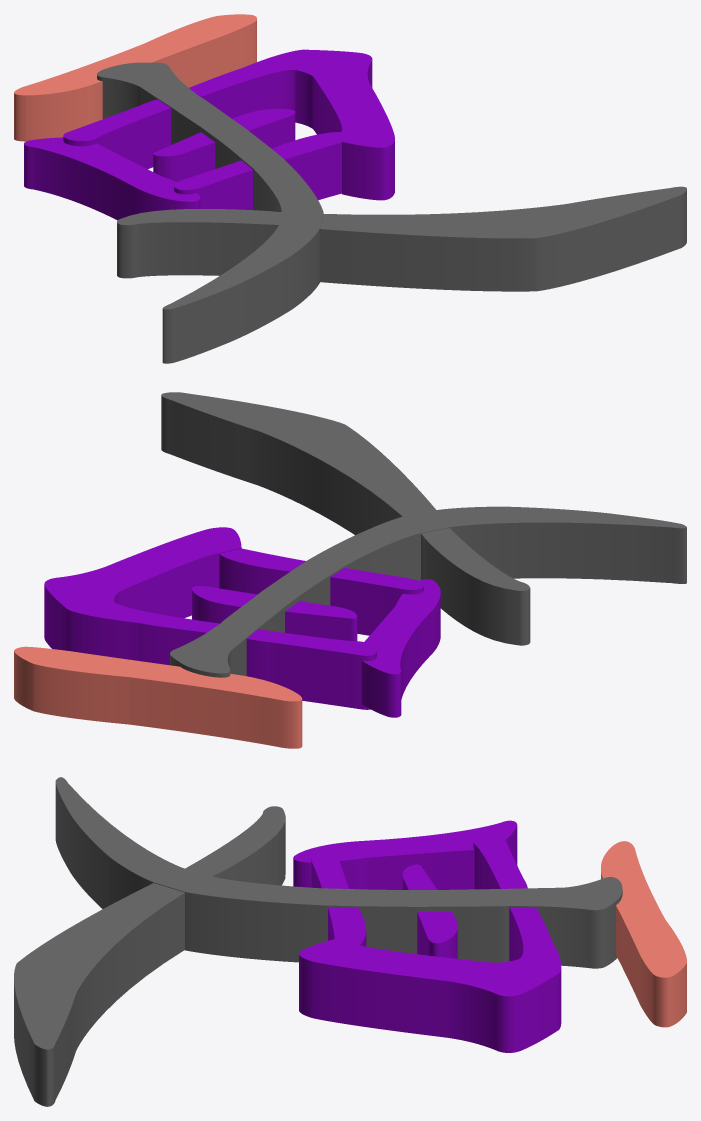
The model's file is hanzi164.fbx.
The picture shows the model from 3 angles, top to bottom: view 1: azimuth 30°, elevation 25°; view 2: azimuth 150°, elevation 25°; view 3: azimuth 270°, elevation 25°; orthographic projection. The views are drawn at different scales.
Visible parts, largest first — view 1: Curve.006, Curve.005, Curve.002, Curve, Curve.001, Curve.004, Curve.003; view 2: Curve.006, Curve.005, Curve.002, Curve, Curve.001, Curve.004, Curve.003; view 3: Curve.005, Curve.002, Curve.006, Curve, Curve.001, Curve.004, Curve.003.
Boxes of the visible parts, <box> form: Curve.006: <box>117,186,686,291</box>; Curve.005: <box>97,62,323,363</box>; Curve.002: <box>63,49,394,200</box>; Curve: <box>14,14,256,141</box>; Curve.001: <box>24,137,200,220</box>; Curve.004: <box>174,132,341,209</box>; Curve.003: <box>153,109,295,181</box>; Curve.006: <box>161,392,530,645</box>; Curve.005: <box>170,506,686,677</box>; Curve.002: <box>44,527,376,709</box>; Curve: <box>14,646,302,748</box>; Curve.001: <box>362,579,440,717</box>; Curve.004: <box>219,548,423,635</box>; Curve.003: <box>192,586,357,641</box>; Curve.005: <box>55,777,622,968</box>; Curve.002: <box>299,832,561,1052</box>; Curve.006: <box>14,806,285,1106</box>; Curve: <box>601,841,686,1027</box>; Curve.001: <box>293,820,517,889</box>; Curve.004: <box>311,849,366,946</box>; Curve.003: <box>402,864,457,958</box>.
Bounding box in the file's own units: 23.13 × 24.19 × 2.32.
